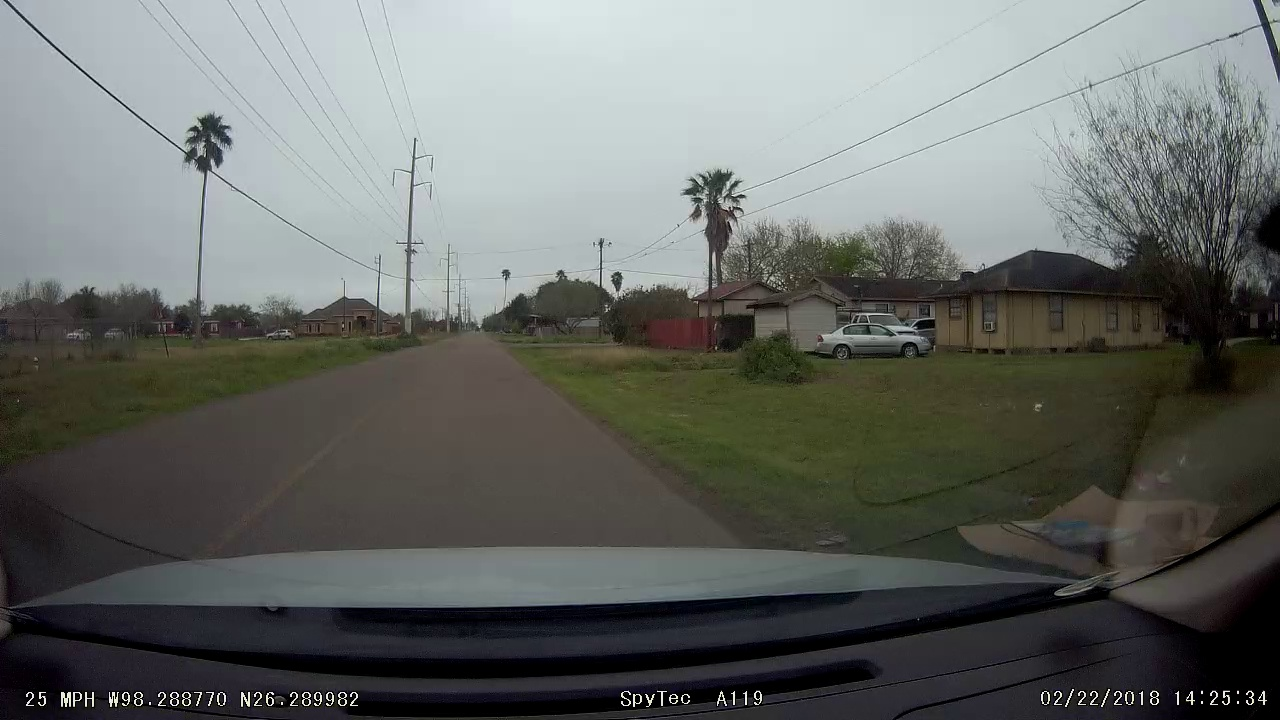blurredLine: (304, 374, 412, 482)
